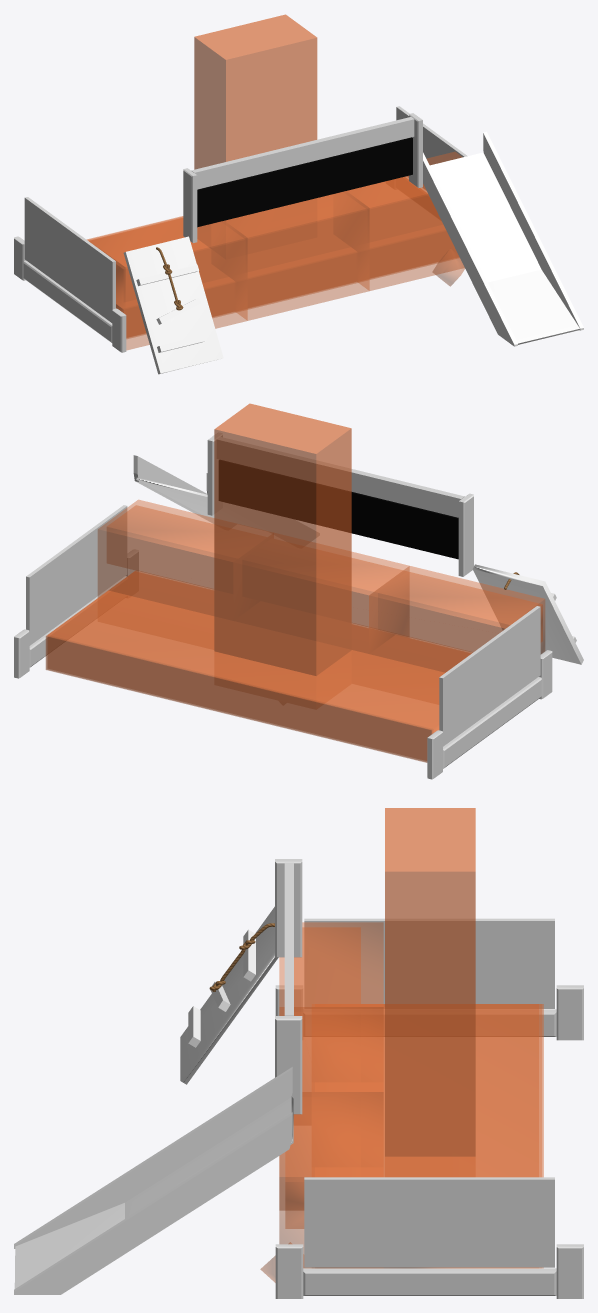
3 views of the same model, one above another, from view 1: azimuth 30°, elevation 25°; view 2: azimuth 150°, elevation 25°; view 3: azimuth 270°, elevation 25° (orthographic). The views are drawn at different scales.
Parts seen in each view (by area): view 1: _ascanop_0, _as6361_1, _as168_0, _asbook_1, matress.001, wood, _asund_0, _asbook_2, black.005, _asbook_0, matress, wood.006 (+4 smaller); view 2: _as6361_1, _ascanop_0, _as7042_0, _as7040_0, wood, _asund_0, _as168_0, _asbook_0, _asbook_2, black.005, wood.006, matress (+3 smaller); view 3: wood, _ascanop_0, _as6361_1, _as168_0, wood13, _asund_0, _as7040_0, _as7042_0, _asbook_0, _asbook_2, _asbook_1, matress.001 (+3 smaller).
Part boxes in pixels (left/top/right/bottom): _ascanop_0: left=194, top=14, right=316, bottom=168; _as6361_1: left=194, top=15, right=316, bottom=169; _as168_0: left=101, top=176, right=442, bottom=301; _asbook_1: left=221, top=191, right=369, bottom=320; matress.001: left=430, top=152, right=579, bottom=344; wood: left=14, top=106, right=467, bottom=352; _asund_0: left=90, top=218, right=457, bottom=338; _asbook_2: left=343, top=152, right=464, bottom=290; black.005: left=197, top=137, right=412, bottom=227; _asbook_0: left=89, top=218, right=247, bottom=349; matress: left=123, top=236, right=223, bottom=374; wood.006: left=183, top=113, right=422, bottom=242; _as6361_1: left=214, top=404, right=351, bottom=675; _ascanop_0: left=214, top=404, right=351, bottom=675; _as7042_0: left=46, top=572, right=467, bottom=762; _as7040_0: left=46, top=571, right=438, bottom=761; wood: left=14, top=505, right=552, bottom=779; _asund_0: left=48, top=570, right=472, bottom=732; _as168_0: left=107, top=505, right=542, bottom=652; _asbook_0: left=369, top=566, right=544, bottom=672; _asbook_2: left=98, top=500, right=214, bottom=615; black.005: left=219, top=460, right=458, bottom=559; wood.006: left=207, top=432, right=473, bottom=576; matress: left=472, top=564, right=583, bottom=664; wood: left=275, top=918, right=583, bottom=1298; _ascanop_0: left=385, top=808, right=475, bottom=1156; _as6361_1: left=385, top=808, right=475, bottom=1156; _as168_0: left=285, top=927, right=360, bottom=1228; wood13: left=14, top=1067, right=292, bottom=1294; _asund_0: left=361, top=1004, right=538, bottom=1176; _as7040_0: left=361, top=1004, right=541, bottom=1176; _as7042_0: left=361, top=1004, right=543, bottom=1176; _asbook_0: left=279, top=922, right=383, bottom=1081; _asbook_2: left=279, top=1092, right=383, bottom=1267; _asbook_1: left=279, top=1007, right=383, bottom=1210; matress.001: left=14, top=1096, right=293, bottom=1288.
Bounding box in the file's own units: 2.06 × 1.3 × 1.89.
8 materials, 1 textured.
